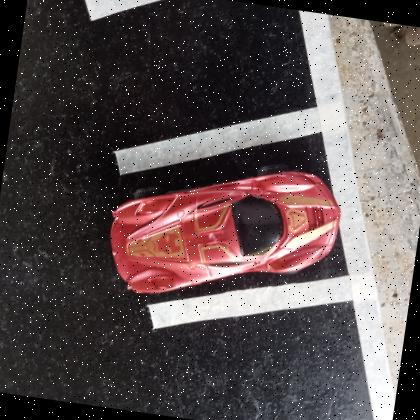Car: (110, 168, 341, 293)
